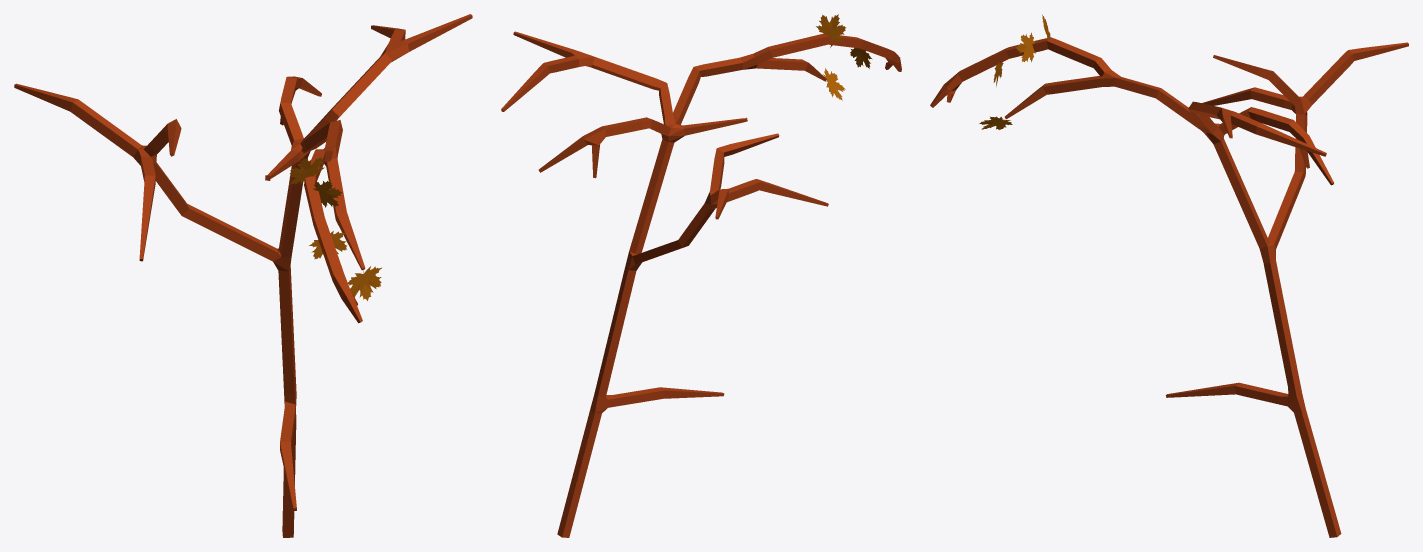
The model's file is Tree.fbx.
3 renders of one model, left to right at view 1: azimuth 30°, elevation 25°; view 2: azimuth 150°, elevation 25°; view 3: azimuth 270°, elevation 25°, orthographic. The views are drawn at different scales.
Visible parts, largest first — view 1: Plane, Plane.002; view 2: Plane, Plane.001; view 3: Plane.
Part boxes in pixels (x1,y1,x2,y2): Plane: (14,14,472,537); Plane.002: (348,266,381,300); Plane: (501,31,901,537); Plane.001: (816,14,846,42); Plane: (930,37,1408,537).
Size of the model in its own units: 540 by 787 by 746.
